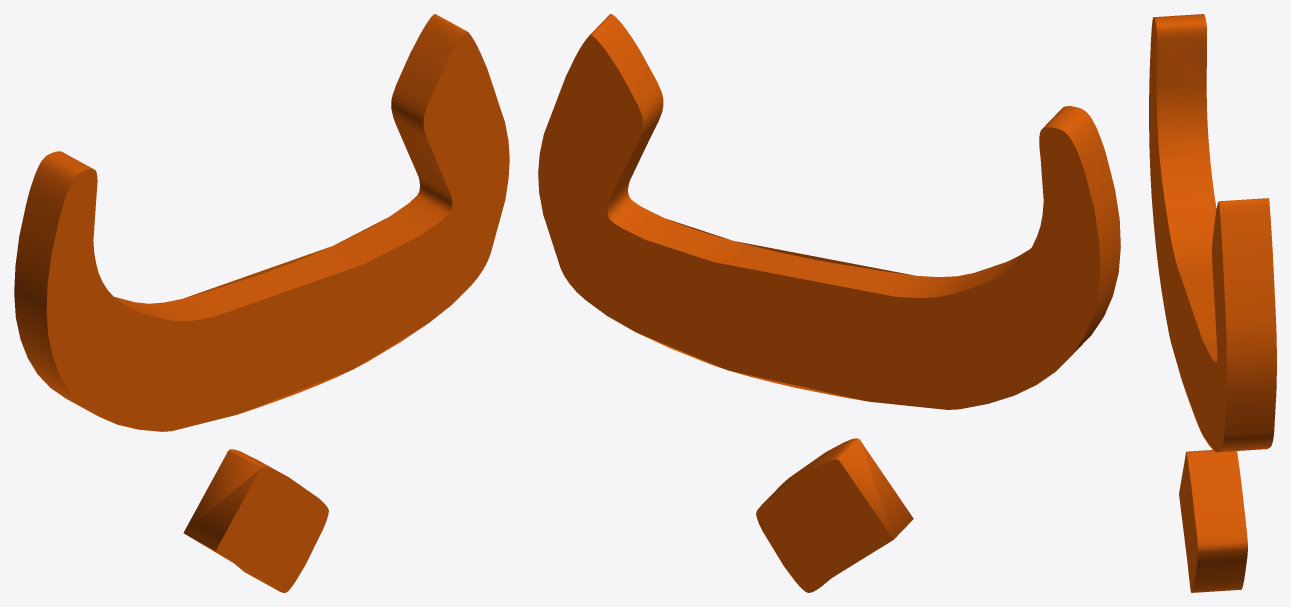
File: ba coba 1.fbx
The picture shows the model from 3 angles, left to right: view 1: azimuth 30°, elevation 25°; view 2: azimuth 150°, elevation 25°; view 3: azimuth 270°, elevation 25°; orthographic projection. The views are drawn at different scales.
Parts seen in each view (by area): view 1: ba; view 2: ba; view 3: ba.
Part boxes in pixels (box(x1,y1,x2,y2)): ba: box(14, 14, 509, 592); ba: box(538, 14, 1120, 592); ba: box(1149, 14, 1276, 592).
Size of the model in its own units: 414 by 390 by 93.59.
